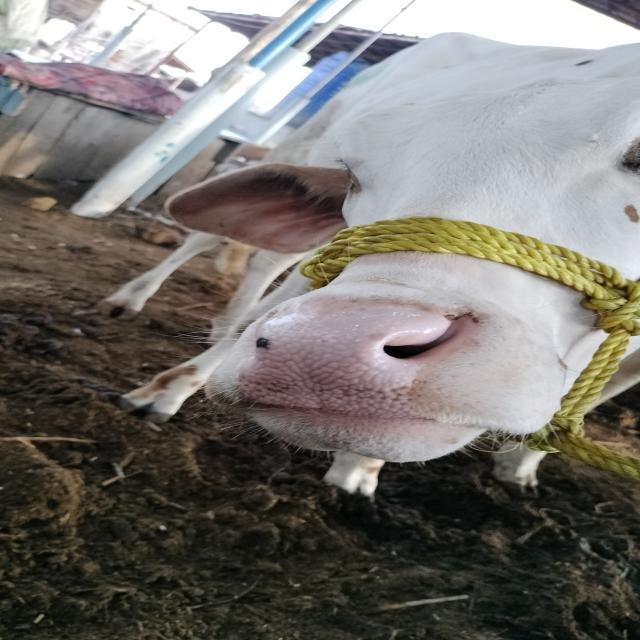muzzles: (242, 290, 486, 427)
